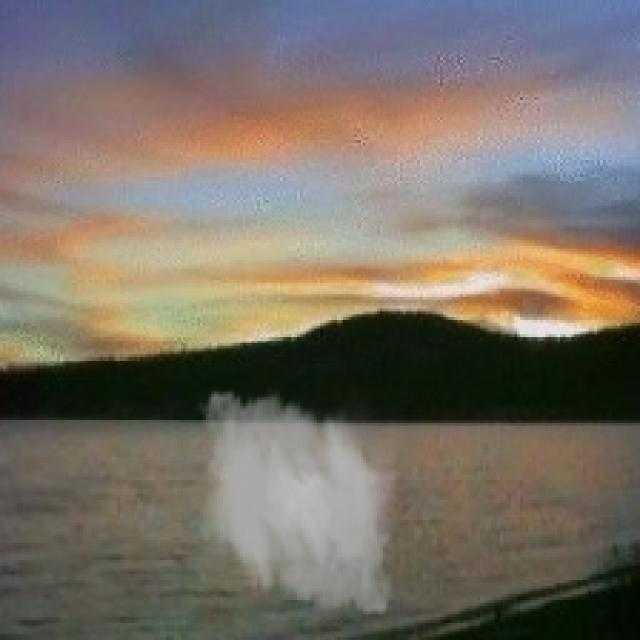Smoke: (182, 380, 408, 626)
